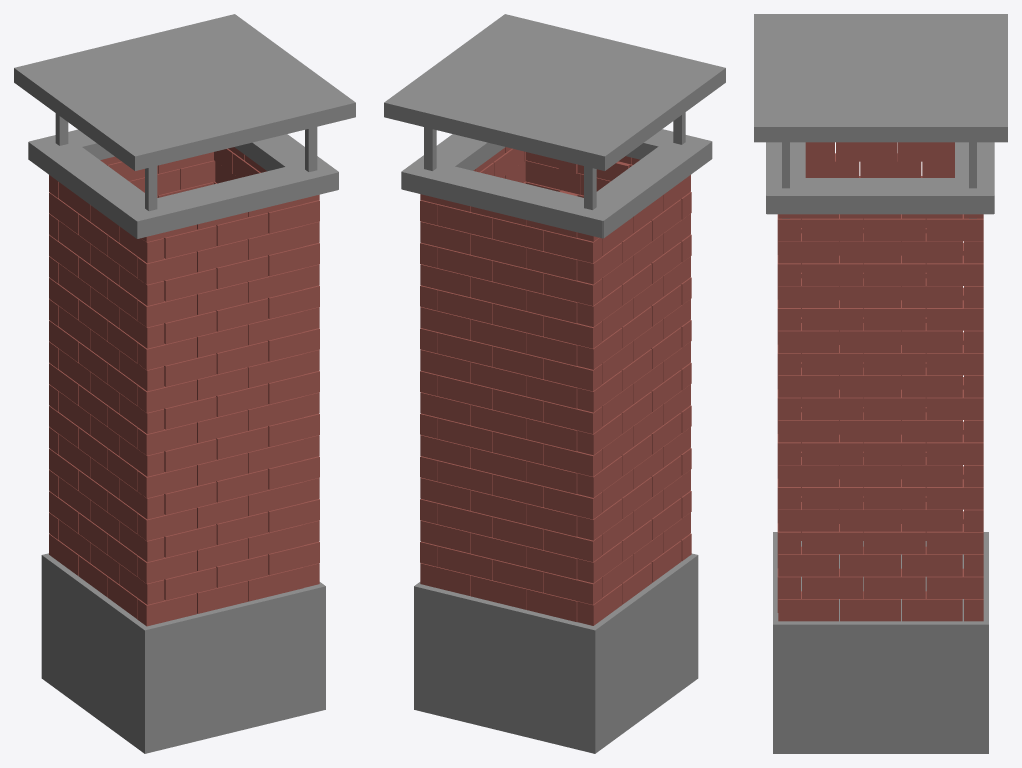
The model's file is bb59cb9c-f5c9-4faf-b076-57ee74b1db66.glb.
3 views of the same model, side by side, from view 1: azimuth 30°, elevation 25°; view 2: azimuth 150°, elevation 25°; view 3: azimuth 270°, elevation 25° (orthographic). The views are drawn at different scales.
Parts seen in each view (by area): view 1: Box001, Box247, Box239, Box242, Box241, Box032, Box128, Box152, Box009, Box104, Box056, Box080 (+102 smaller); view 2: Box001, Box247, Box240, Box242, Box241, Box061, Box157, Box181, Box016, Box109, Box133, Box037 (+101 smaller); view 3: Box247, Box001, Box241, Box039, Box042, Box207, Box210, Box018, Box063, Box066, Box087, Box090 (+71 smaller).
Boxes of the visible parts, bbox=[...] form: Box001: bbox=[41, 553, 325, 753]; Box247: bbox=[14, 14, 355, 170]; Box239: bbox=[120, 158, 338, 238]; Box242: bbox=[28, 135, 171, 238]; Box241: bbox=[234, 134, 338, 189]; Box032: bbox=[137, 550, 196, 583]; Box128: bbox=[137, 379, 196, 412]; Box152: bbox=[137, 337, 196, 370]; Box009: bbox=[137, 593, 196, 626]; Box104: bbox=[137, 422, 196, 455]; Box056: bbox=[137, 507, 196, 540]; Box080: bbox=[137, 465, 196, 498]; Box001: bbox=[414, 553, 698, 753]; Box247: bbox=[384, 14, 725, 170]; Box240: bbox=[402, 163, 619, 238]; Box242: bbox=[570, 135, 712, 238]; Box241: bbox=[401, 134, 505, 189]; Box061: bbox=[544, 486, 602, 519]; Box157: bbox=[544, 315, 602, 348]; Box181: bbox=[544, 273, 602, 305]; Box016: bbox=[544, 572, 602, 604]; Box109: bbox=[544, 401, 602, 433]; Box133: bbox=[544, 358, 602, 391]; Box037: bbox=[544, 529, 602, 561]; Box247: bbox=[754, 14, 1007, 142]; Box001: bbox=[773, 532, 988, 753]; Box241: bbox=[766, 178, 993, 214]; Box039: bbox=[864, 524, 925, 554]; Box042: bbox=[802, 524, 863, 554]; Box207: bbox=[864, 214, 925, 241]; Box210: bbox=[802, 214, 863, 241]; Box018: bbox=[864, 568, 925, 598]; Box063: bbox=[864, 479, 925, 509]; Box066: bbox=[802, 479, 863, 509]; Box087: bbox=[864, 434, 925, 464]; Box090: bbox=[802, 434, 863, 464].
Size of the model in its own units: 6.55 by 17.25 by 6.22.
